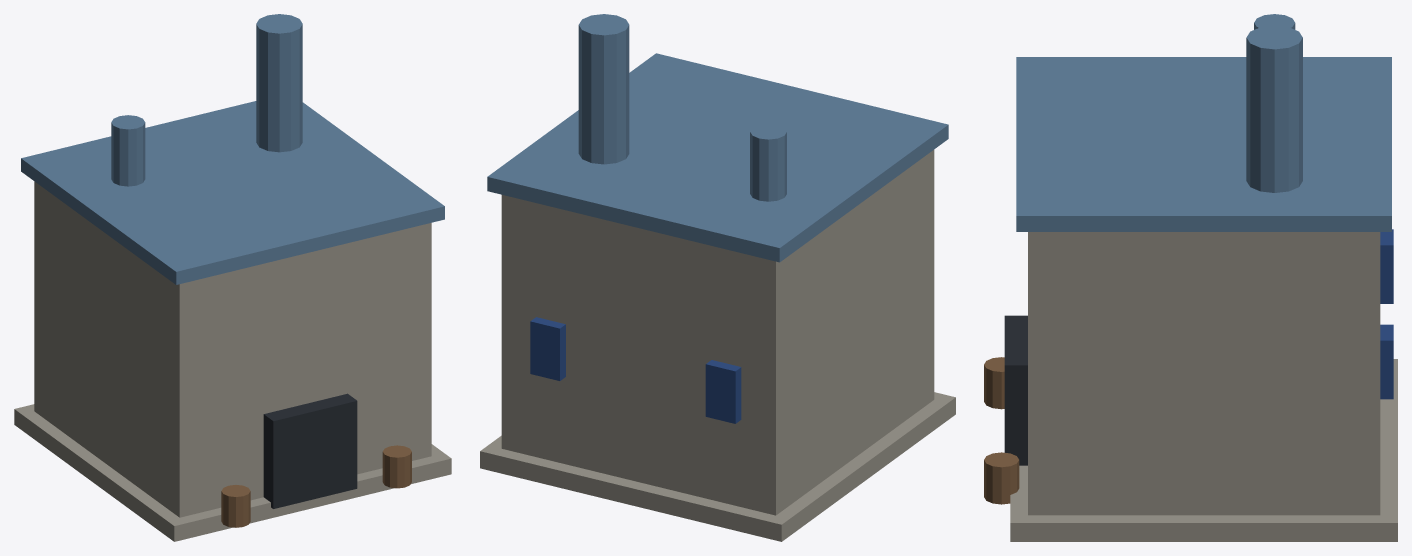
The model's file is bld_industrial_a06_lod1.glb.
The picture shows the model from 3 angles, left to right: view 1: azimuth 30°, elevation 25°; view 2: azimuth 150°, elevation 25°; view 3: azimuth 270°, elevation 25°; orthographic projection. The views are drawn at different scales.
Visible parts, largest first — view 1: body; view 2: body; view 3: body.
Part boxes in pixels (bbox=[...]): body: bbox=[14, 14, 451, 541]; body: bbox=[480, 14, 955, 541]; body: bbox=[984, 14, 1397, 541].
Size of the model in its own units: 6.6 by 8.78 by 7.05.
